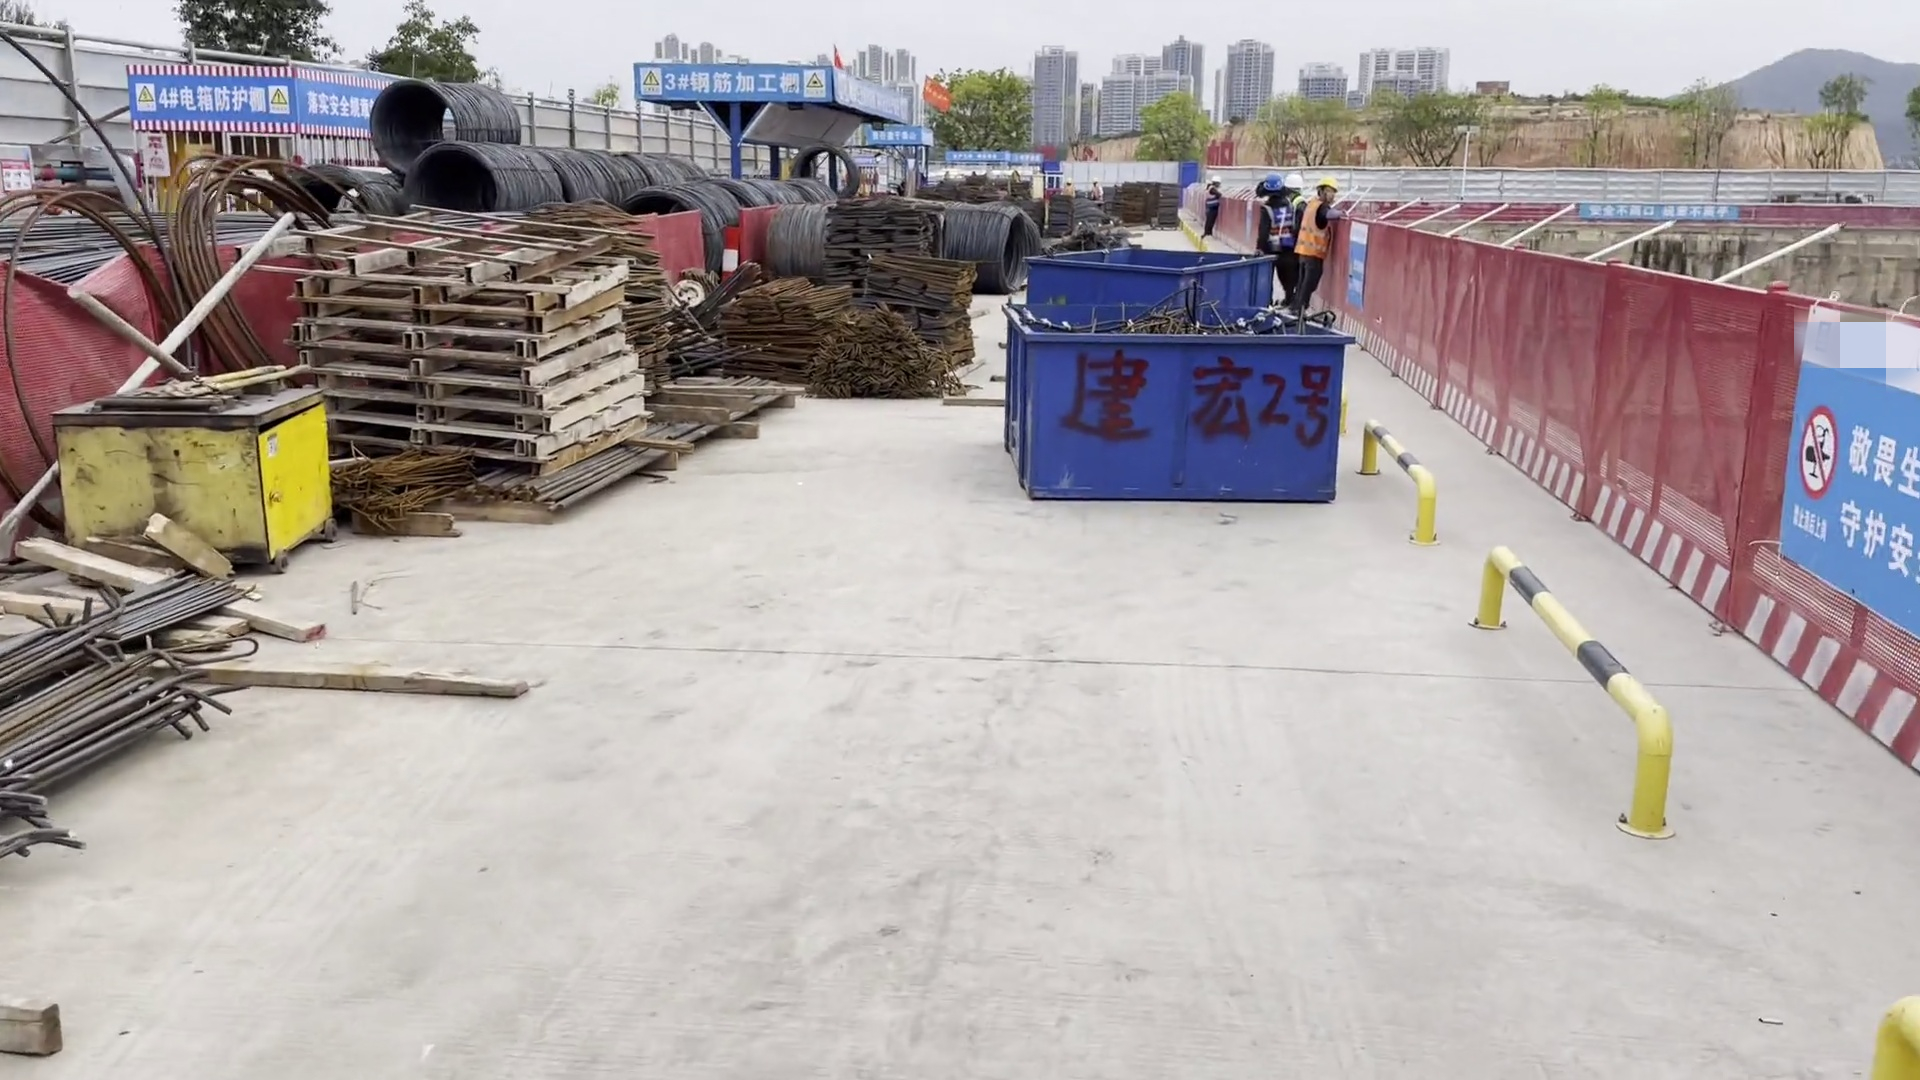helmet: (1261, 174, 1281, 191), (1318, 179, 1336, 195), (1287, 173, 1303, 188), (1208, 175, 1219, 183), (1091, 177, 1098, 184), (1066, 178, 1072, 185)
person: (1296, 178, 1341, 308), (1255, 175, 1286, 256), (1287, 174, 1308, 228), (1202, 174, 1219, 241), (1086, 176, 1104, 203), (1059, 179, 1078, 198)
vest: (1298, 200, 1332, 257), (1261, 202, 1288, 245), (1205, 185, 1218, 210), (1091, 185, 1101, 200), (1064, 185, 1073, 197)
